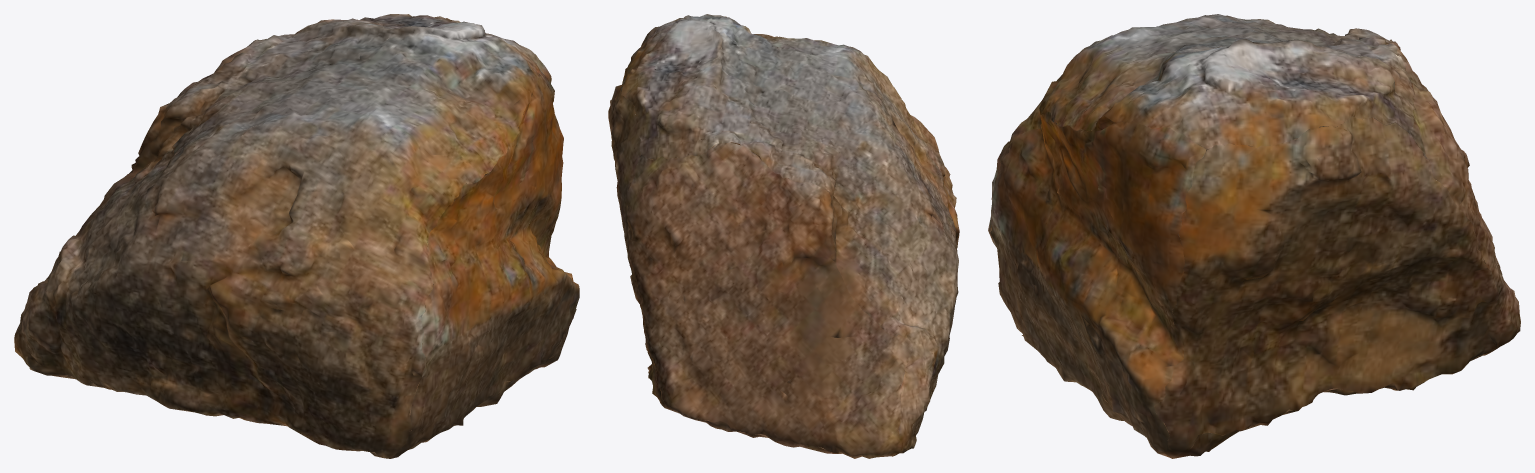
File: namaqualand_boulder_04.glb
The picture shows the model from 3 angles, left to right: view 1: azimuth 30°, elevation 25°; view 2: azimuth 150°, elevation 25°; view 3: azimuth 270°, elevation 25°; orthographic projection. The views are drawn at different scales.
Parts seen in each view (by area): view 1: boulder_04; view 2: boulder_04; view 3: boulder_04.
Part boxes in pixels (bbox=[...]): boulder_04: bbox=[14, 14, 579, 458]; boulder_04: bbox=[608, 14, 959, 458]; boulder_04: bbox=[988, 14, 1520, 458].
Size of the model in its own units: 2.52 by 1.9 by 2.5.
Materials: 1 (1 with a texture image).
